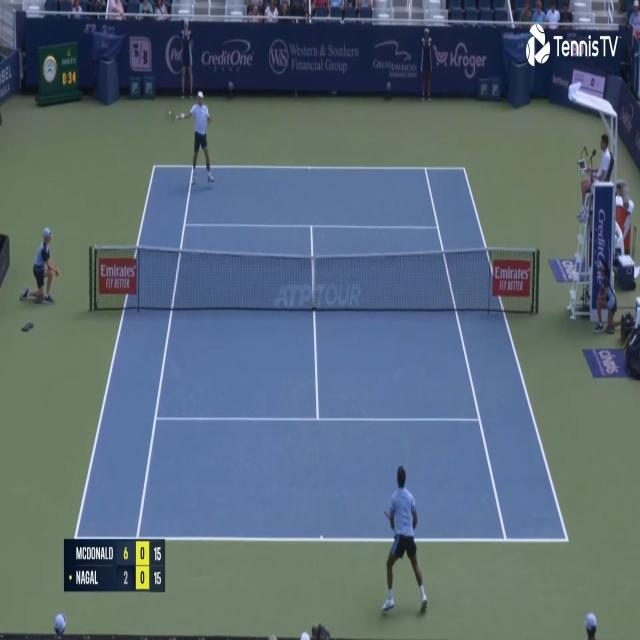tennis-player: (380, 462, 433, 620), (167, 86, 216, 190)
